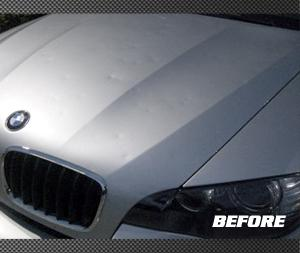bonnet-dent: (1, 66, 225, 210), (0, 16, 213, 165), (175, 21, 299, 212)
